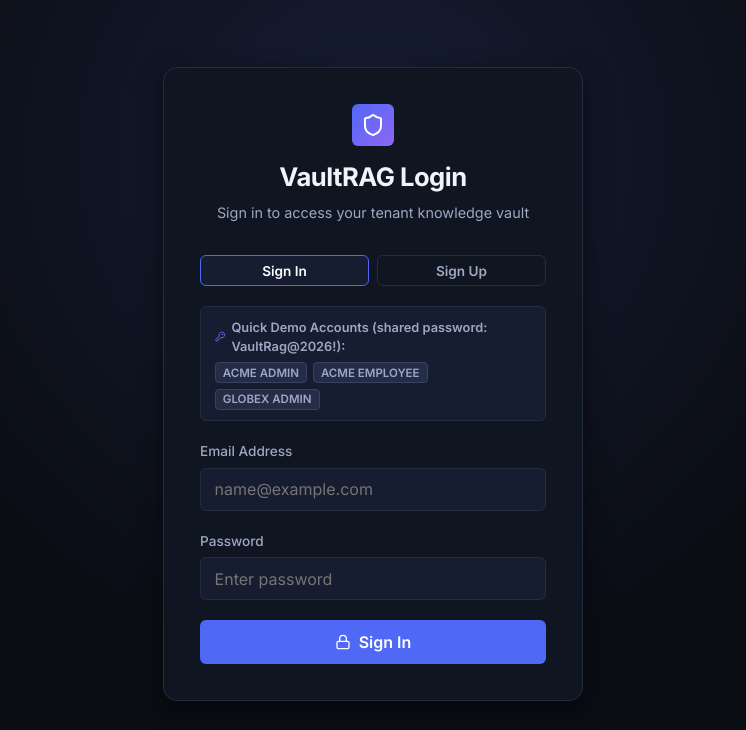
Test: LoginPage Form Validation › shows validation error when password is empty or too short
In the field with test id "input-email": (373, 489) x1=200 y1=468 x2=546 y2=511, type "admin@acme.com"
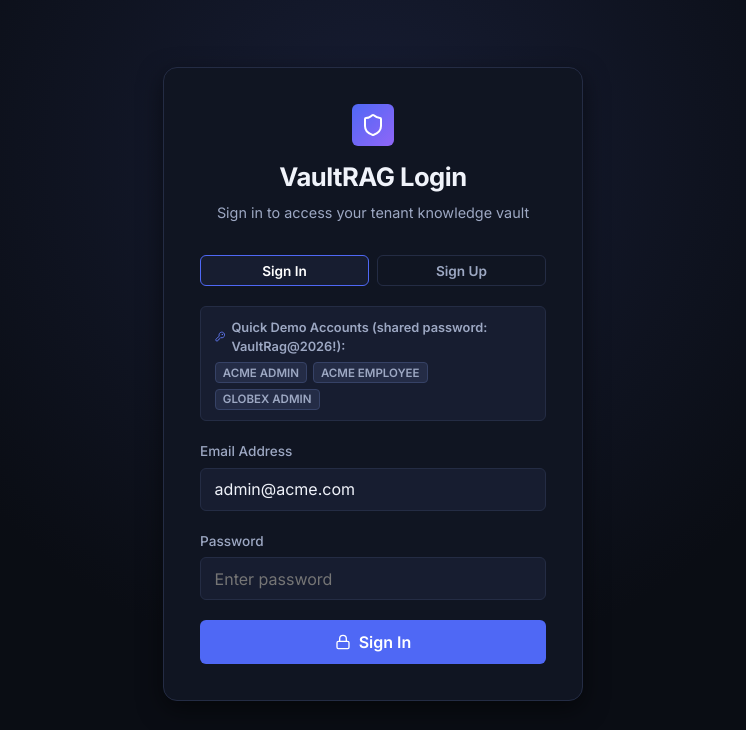
In the password field with test id "input-password": (373, 579) x1=200 y1=557 x2=546 y2=600, type "123"
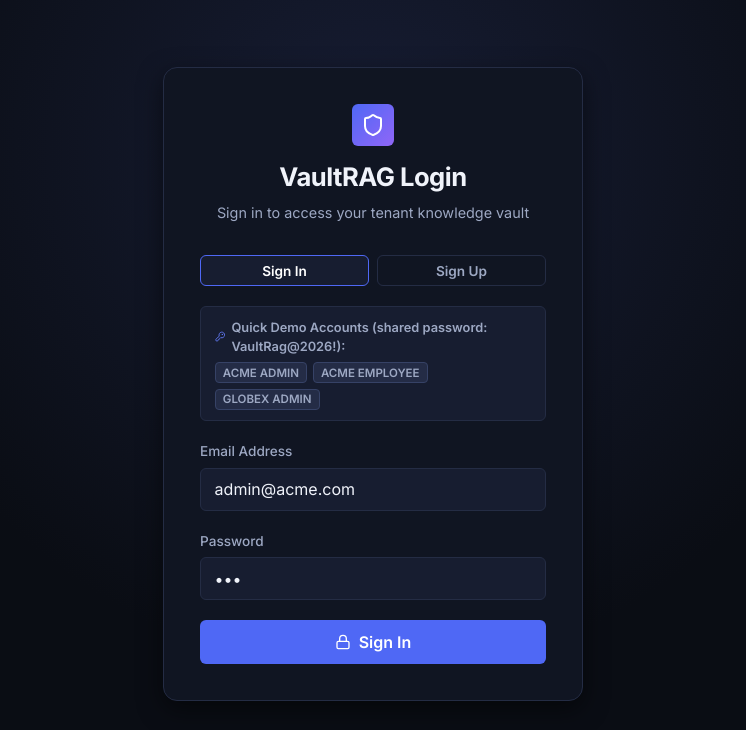
Click the button with test id "btn-login-submit": (373, 642) x1=200 y1=620 x2=546 y2=664
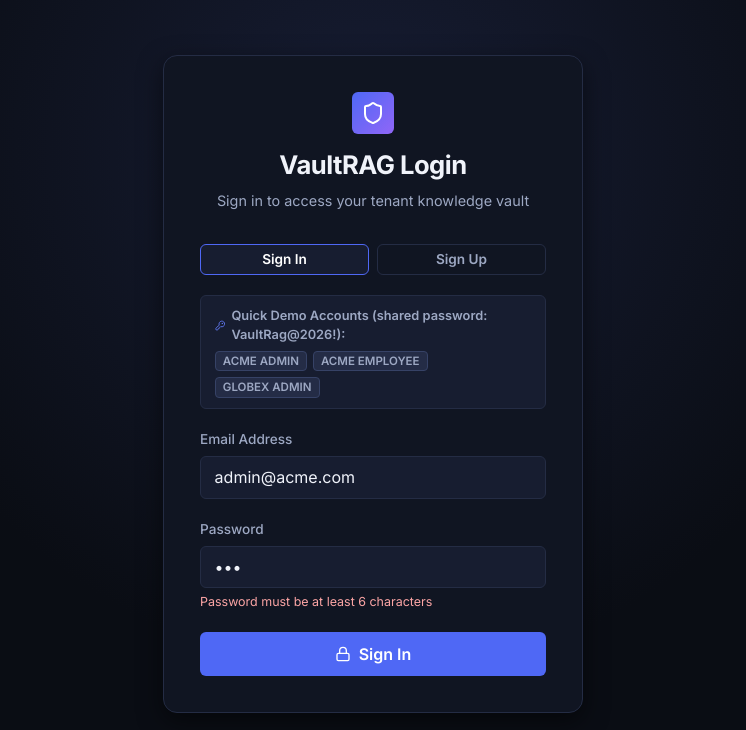
Now the text with test id "error-password" reads "Password must be at least 6 characters", box x1=200 y1=594 x2=432 y2=609
